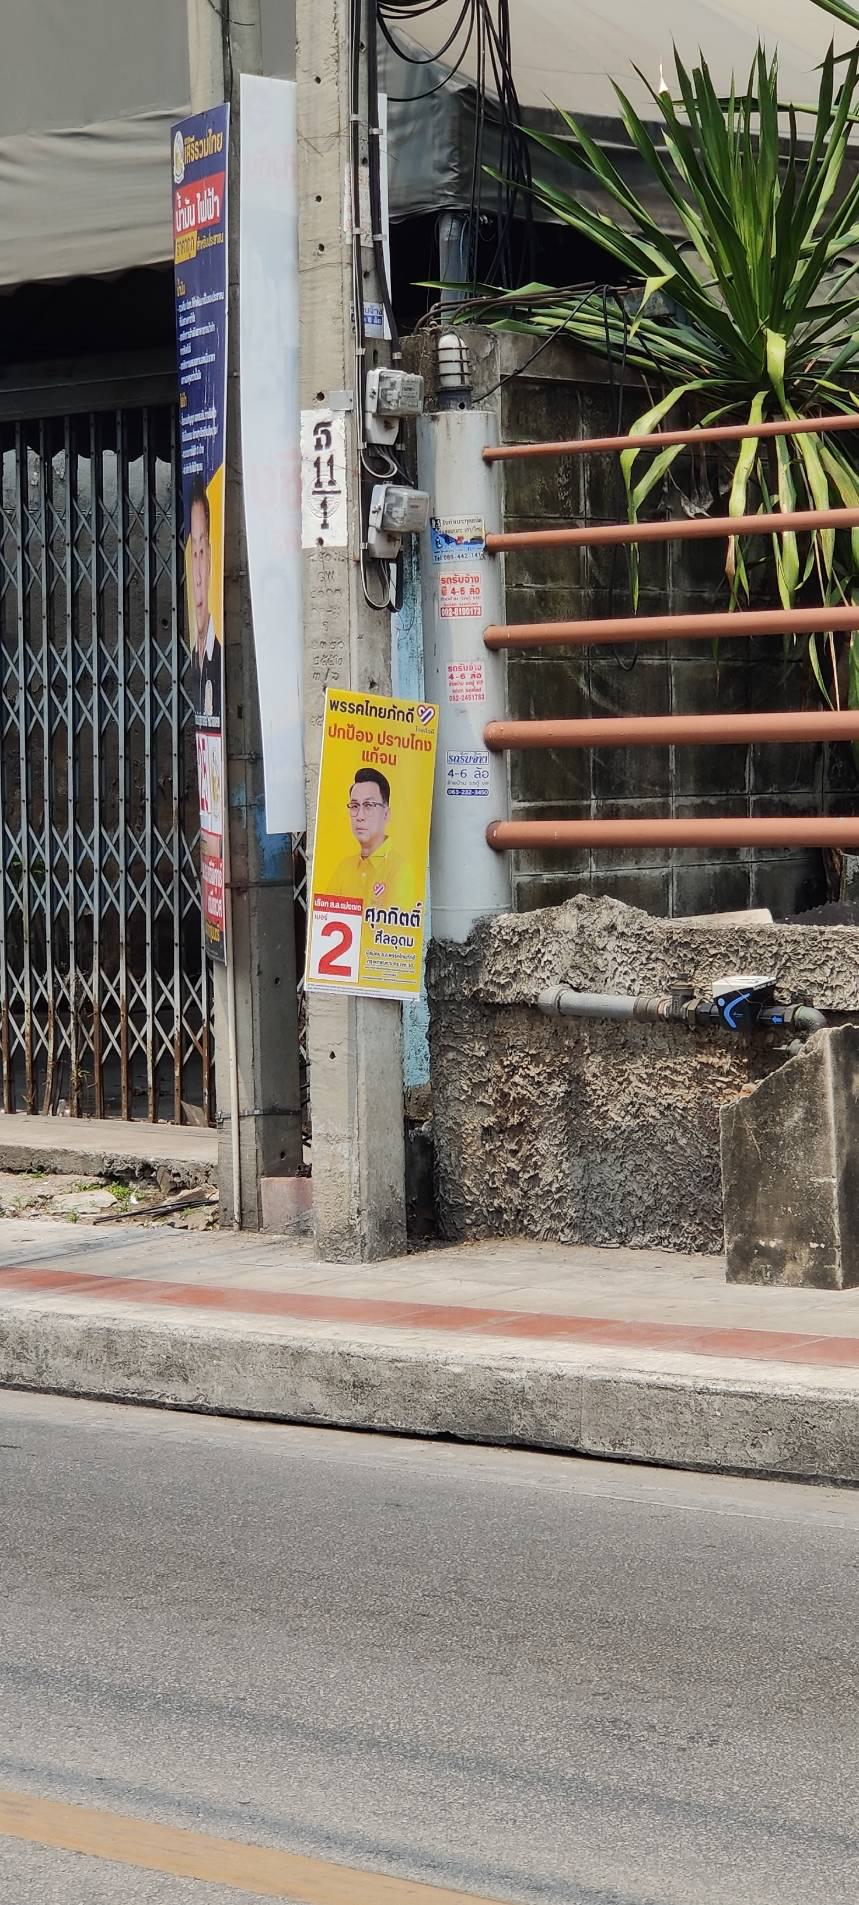Banner: (292, 683, 447, 999)
